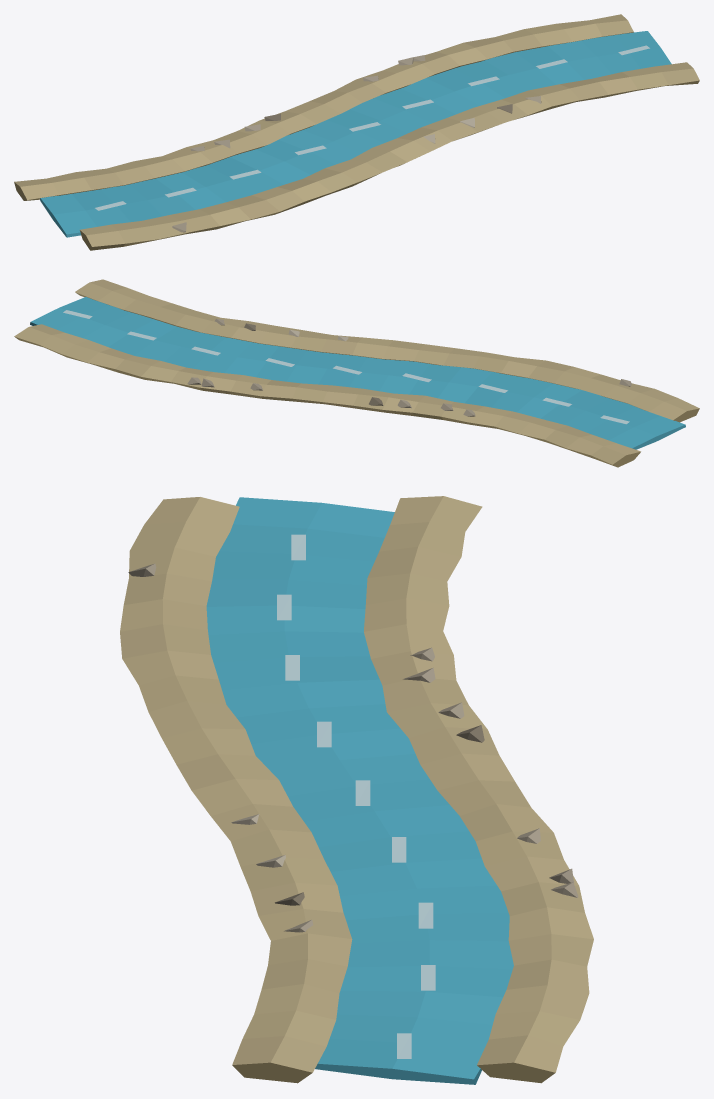
The model's file is brook.glb.
The picture shows the model from 3 angles, top to bottom: view 1: azimuth 30°, elevation 25°; view 2: azimuth 150°, elevation 25°; view 3: azimuth 270°, elevation 25°; orthographic projection. The views are drawn at different scales.
Parts seen in each view (by area): view 1: base, water_m; view 2: base, water_m; view 3: base, water_m.
Part boxes in pixels (x1,y1,x2,y2): base: (14, 14, 699, 250); water_m: (40, 31, 671, 237); base: (14, 279, 699, 467); water_m: (30, 297, 685, 449); base: (120, 496, 593, 1083); water_m: (206, 497, 513, 1084).
Bounding box in the file's own units: 2.26 × 0.0428 × 0.7788.
